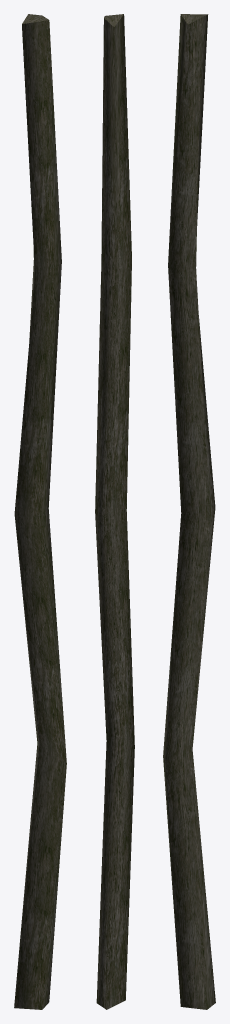
File: TI_L_Branch_02.fbx
3 views of the same model, side by side, from view 1: azimuth 90°, elevation 25°; view 2: azimuth 150°, elevation 25°; view 3: azimuth 270°, elevation 25° (orthographic).
Parts seen in each view (by area): view 1: TI_L_Branch_02; view 2: TI_L_Branch_02; view 3: TI_L_Branch_02.
Part boxes in pixels (x1,y1,x2,y2): TI_L_Branch_02: (14,14,66,1009); TI_L_Branch_02: (95,14,134,1009); TI_L_Branch_02: (163,14,215,1009).
Bounding box in the file's own units: 0.1466 × 6.16 × 0.2983.
